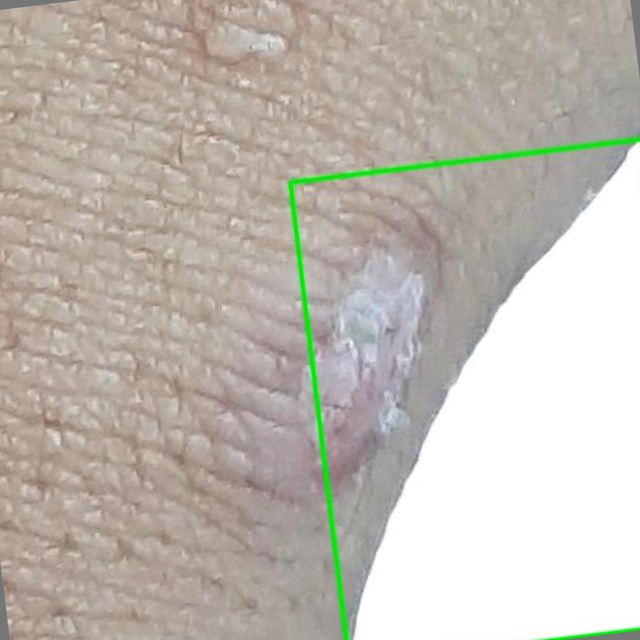Contact Dermatitis: (290, 139, 639, 639)
